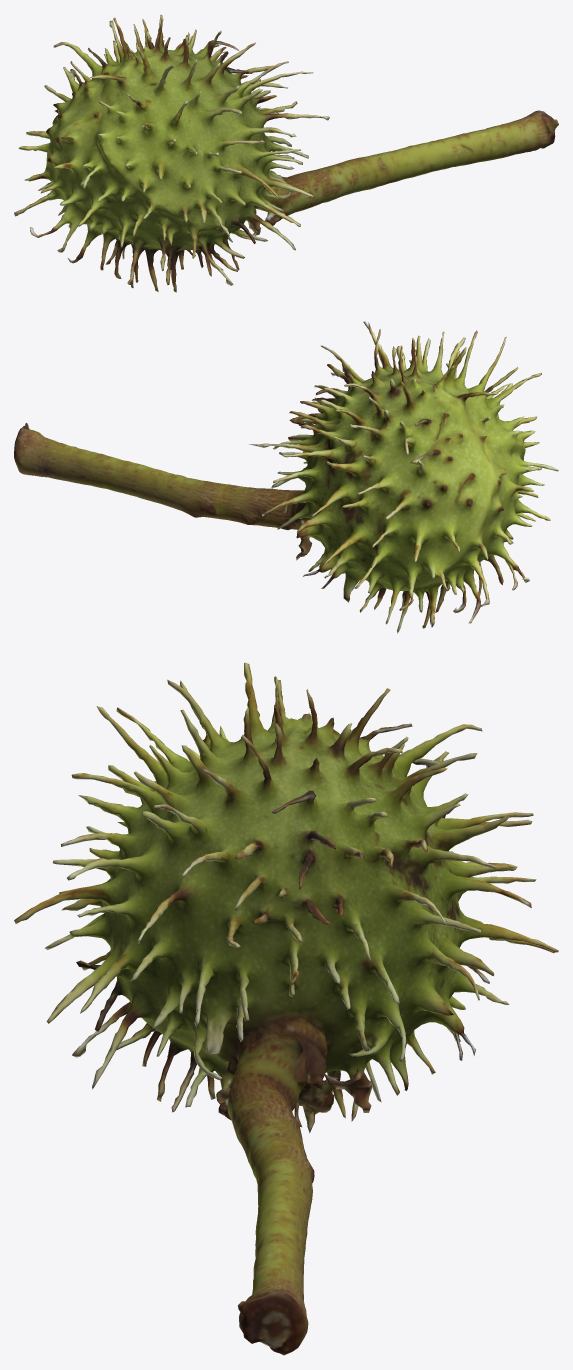
The model's file is kastan_hd.FBX.
The picture shows the model from 3 angles, top to bottom: view 1: azimuth 30°, elevation 25°; view 2: azimuth 150°, elevation 25°; view 3: azimuth 270°, elevation 25°; orthographic projection. The views are drawn at different scales.
Parts seen in each view (by area): view 1: kastan_hd; view 2: kastan_hd; view 3: kastan_hd.
Boxes of the visible parts, <box> form: kastan_hd: <box>14,15,558,292</box>; kastan_hd: <box>14,321,558,633</box>; kastan_hd: <box>14,662,558,1355</box>.
Bounding box in the file's own units: 15.21 × 8.44 × 7.55.
1 material, 1 textured.
